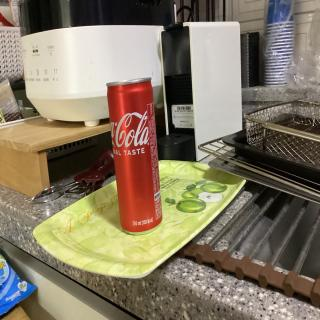cocacola: (105, 76, 164, 235)
